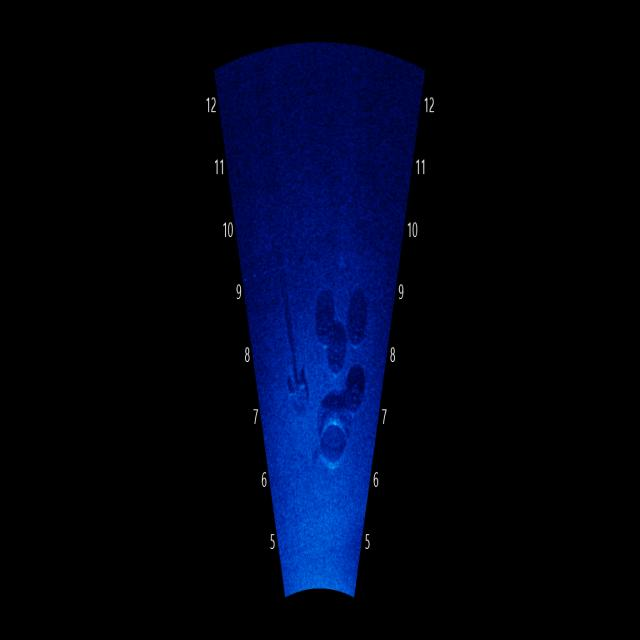circle: (311, 398, 354, 483), (340, 360, 373, 420), (310, 296, 340, 358), (323, 328, 355, 381), (343, 294, 372, 350)
